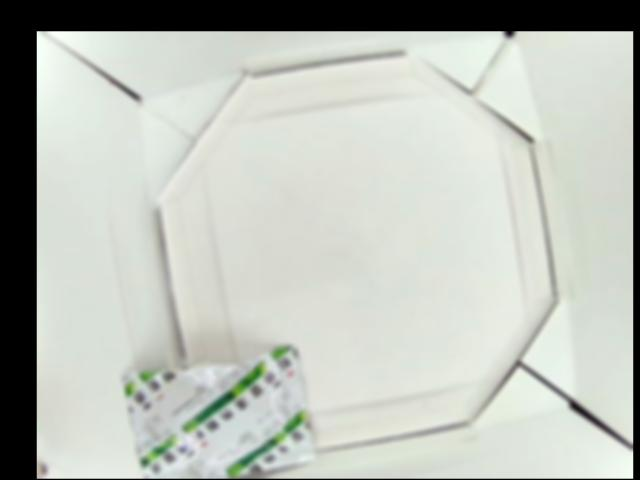Medicine: (121, 346, 316, 478)
